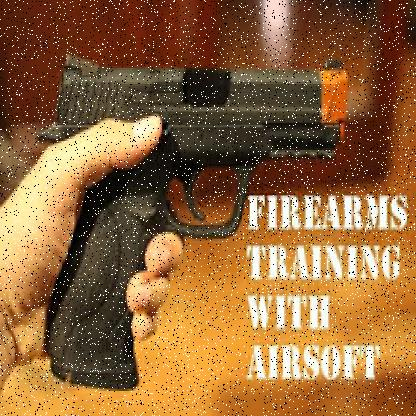pistol: (36, 48, 346, 378)
